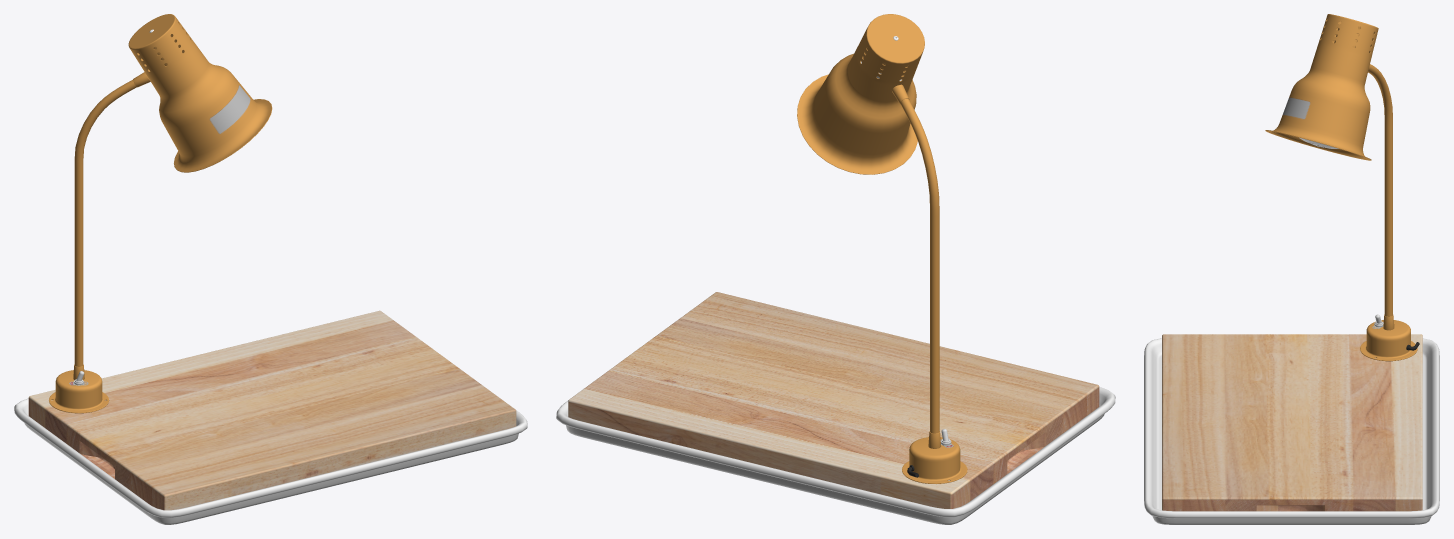
3 renders of one model, left to right at view 1: azimuth 30°, elevation 25°; view 2: azimuth 150°, elevation 25°; view 3: azimuth 270°, elevation 25°, orthographic. The views are drawn at different scales.
Visible parts, largest first — view 1: SKU_164WCB1624, 177HL24BK, 407BUNFULL; view 2: SKU_164WCB1624, 177HL24BK, 407BUNFULL; view 3: SKU_164WCB1624, 177HL24BK, 407BUNFULL.
Part boxes in pixels (<box>): SKU_164WCB1624: <box>28,310,516,510</box>; 177HL24BK: <box>49,14,272,413</box>; 407BUNFULL: <box>14,398,527,524</box>; SKU_164WCB1624: <box>568,292,1099,508</box>; 177HL24BK: <box>797,14,967,483</box>; 407BUNFULL: <box>556,387,1115,524</box>; SKU_164WCB1624: <box>1162,334,1422,511</box>; 177HL24BK: <box>1265,14,1419,361</box>; 407BUNFULL: <box>1144,338,1439,524</box>.
Bounding box in the file's own units: 64.68 × 67.11 × 45.75.
Materials: 3 (3 with a texture image).
